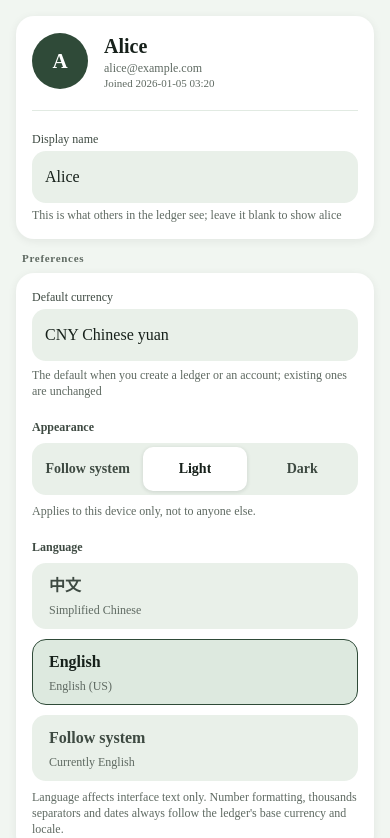
Scenario: picking 中文 switches i18n and persists `language: "zh"`
The image size is (390, 838).
Click the text "中文".
click(65, 586)  # box [49, 577, 81, 594]
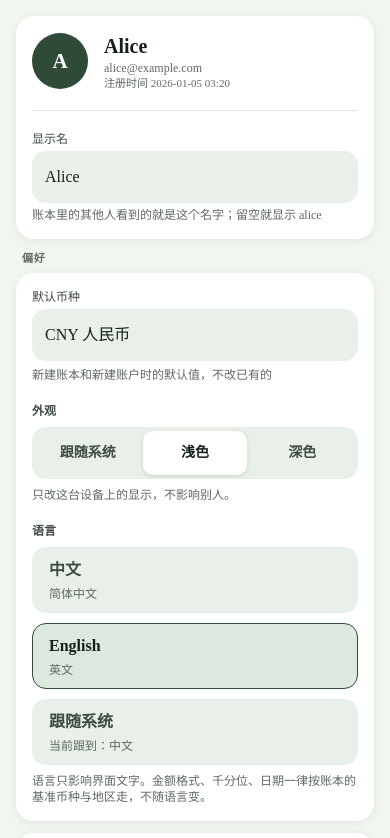
Check: the text with test id "settings-language-note" shows "金额格式", box [32, 774, 356, 804]
